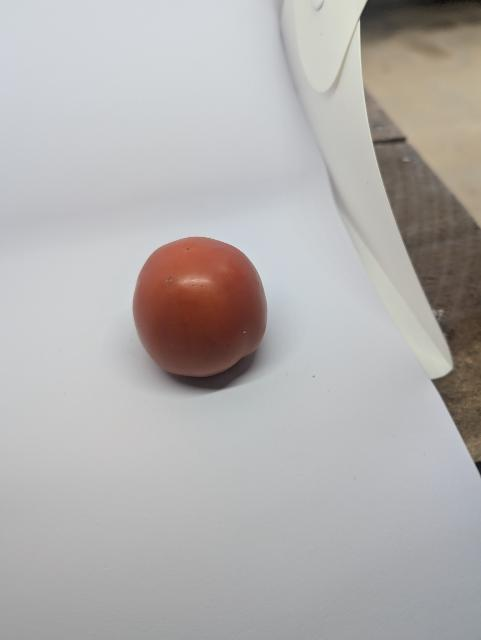red: (126, 226, 275, 398)
